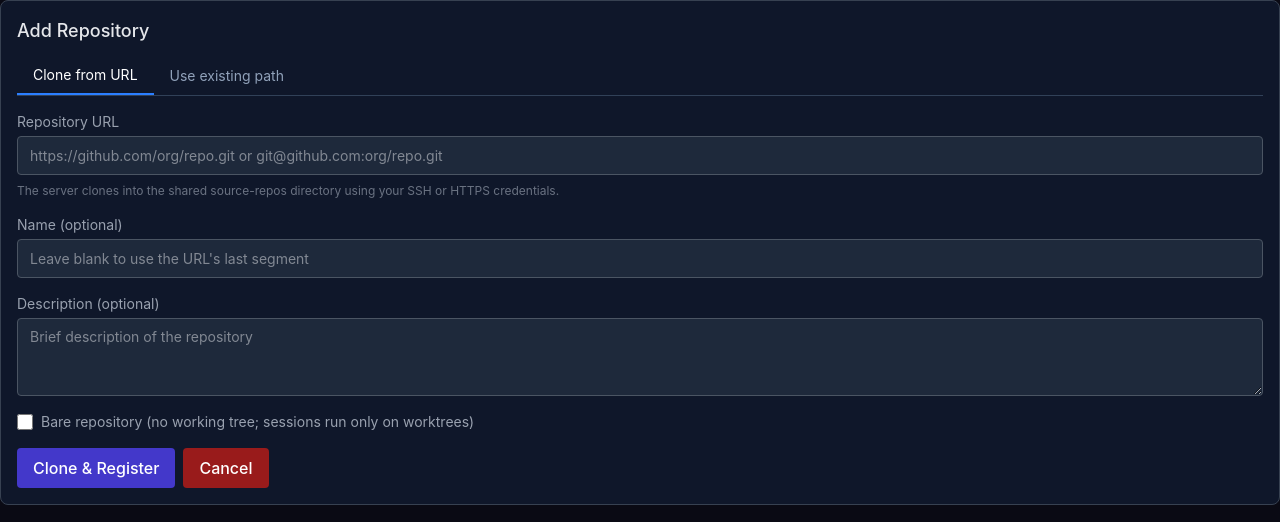
AddRepositoryForm › tab structure › switches to the Use existing path tab when clicked
Click the tab "Use existing path": (227, 76) top-left (154, 57), bottom-right (300, 95)
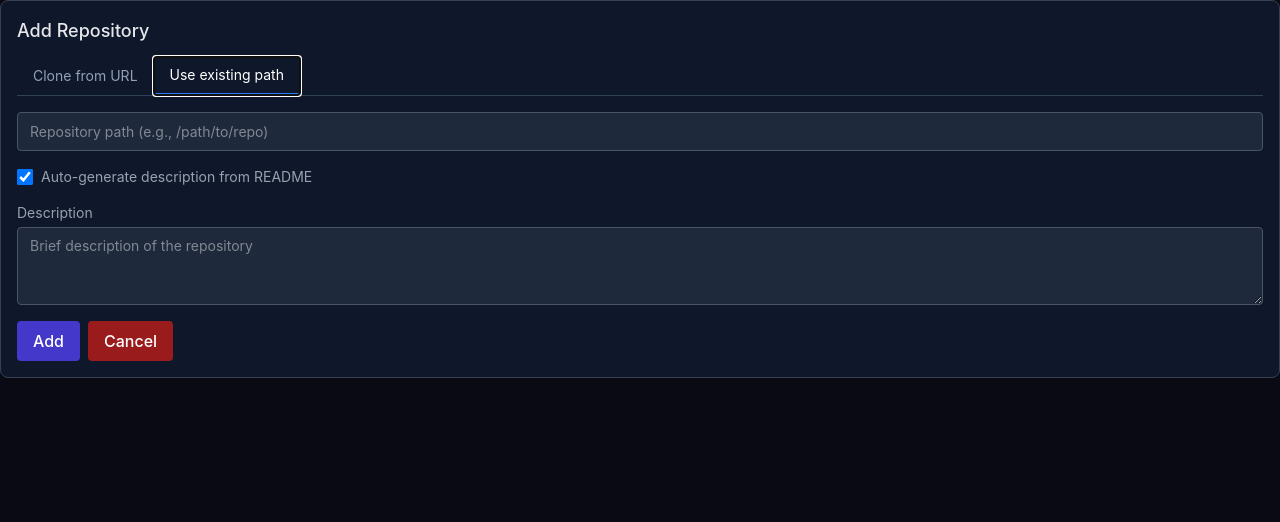
Expected: the field with placeholder "Repository path (e.g., /path/to/repo)" is shown, top-left (17, 112), bottom-right (1263, 151)
